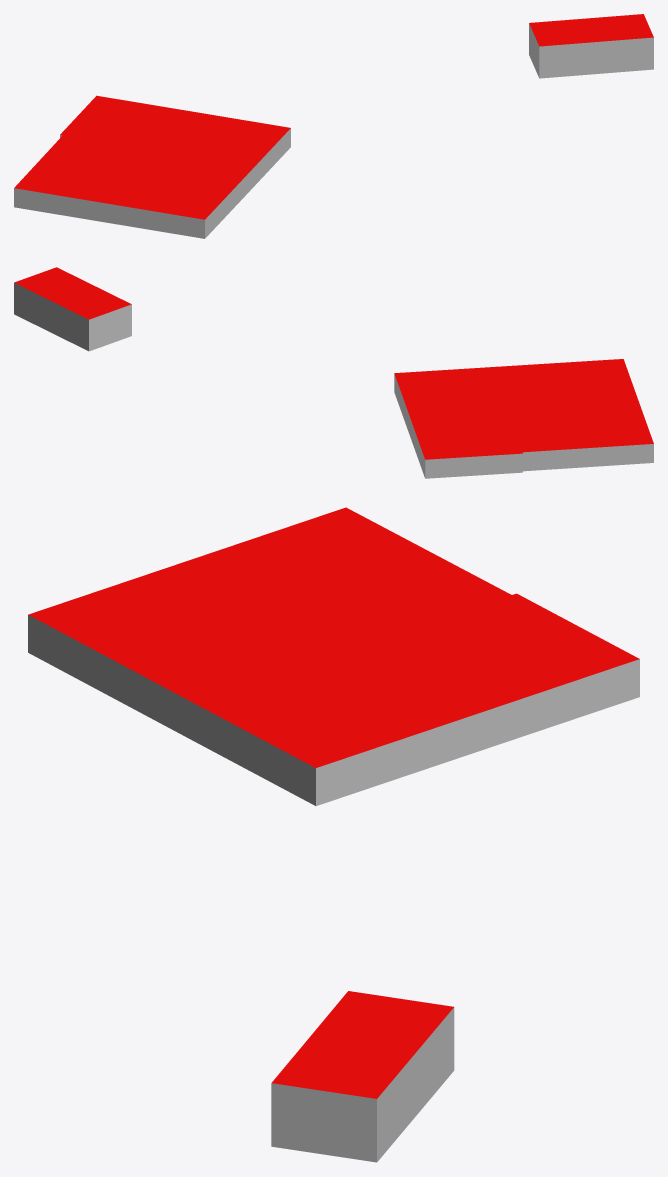
3 views of the same model, one above another, from view 1: azimuth 30°, elevation 25°; view 2: azimuth 150°, elevation 25°; view 3: azimuth 270°, elevation 25° (orthographic). The views are drawn at different scales.
Bounding box in the file's own units: 104 × 5.01 × 43.68.
